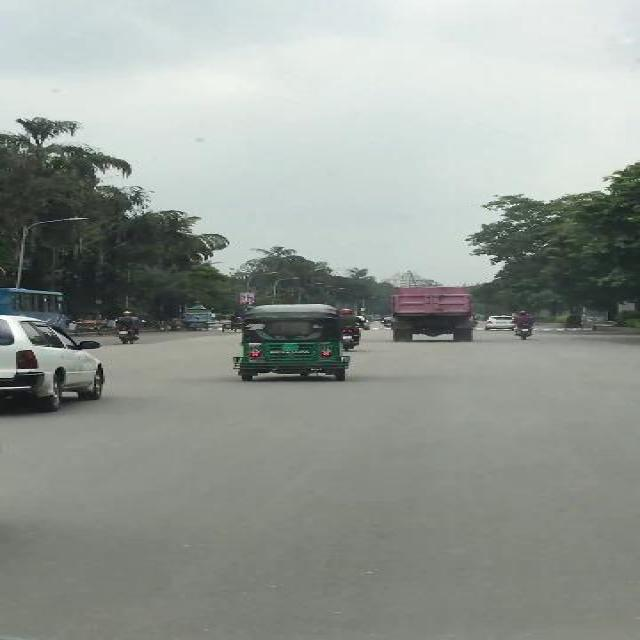bike: (339, 310, 367, 352), (112, 311, 146, 345), (513, 312, 534, 342)
vehicle: (1, 315, 108, 413), (231, 305, 352, 384), (71, 314, 105, 337), (483, 315, 515, 331), (563, 315, 584, 333)
